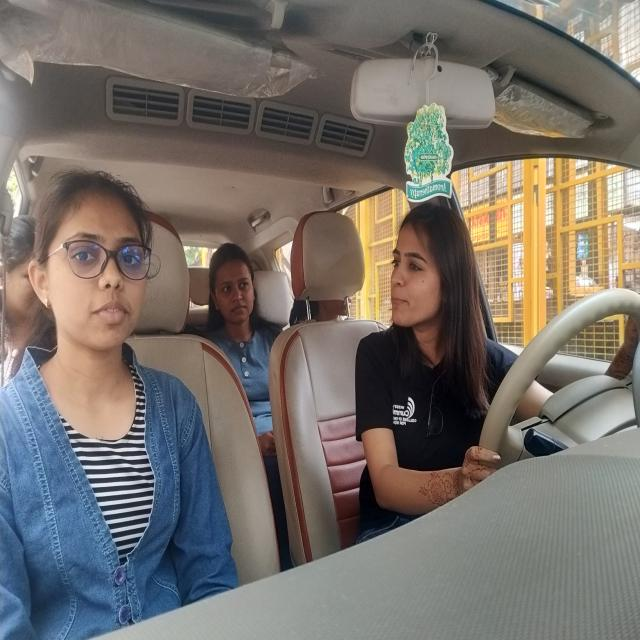LeftRight: (374, 196, 490, 377)
person: (20, 152, 168, 370), (201, 235, 270, 336)
